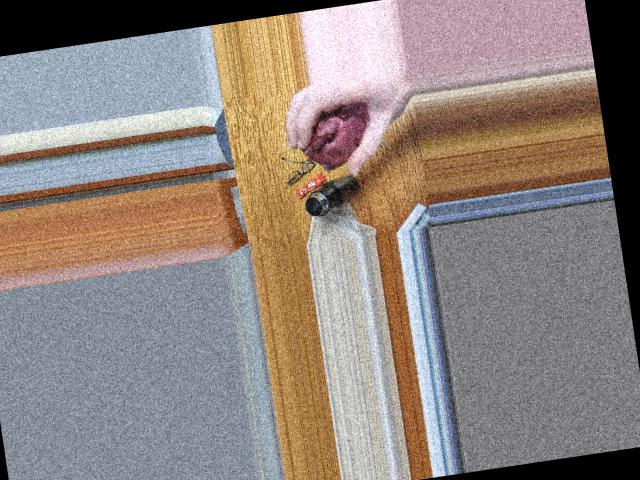onion: (304, 103, 374, 157)
